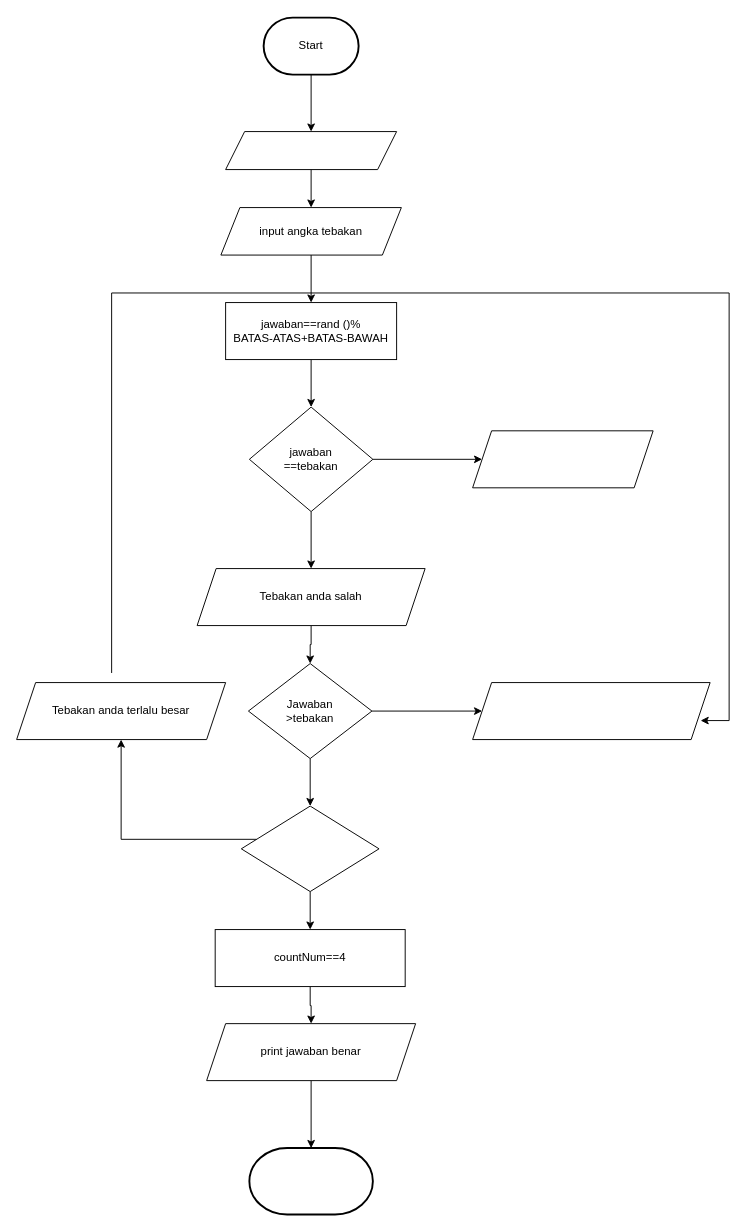
This 753x1231 diagram has some shape labels left out. Here are the shapes that lost their labels. From the top down, the centre of each, then its label:
At (x=311, y=150): "program tebak angka".
At (x=562, y=459): "Tebakan anda benar".
At (x=591, y=711): "Tebakan anda terlalu kecil".
At (x=309, y=848): "Jawaban <tebakan".
At (x=310, y=1181): "End".
